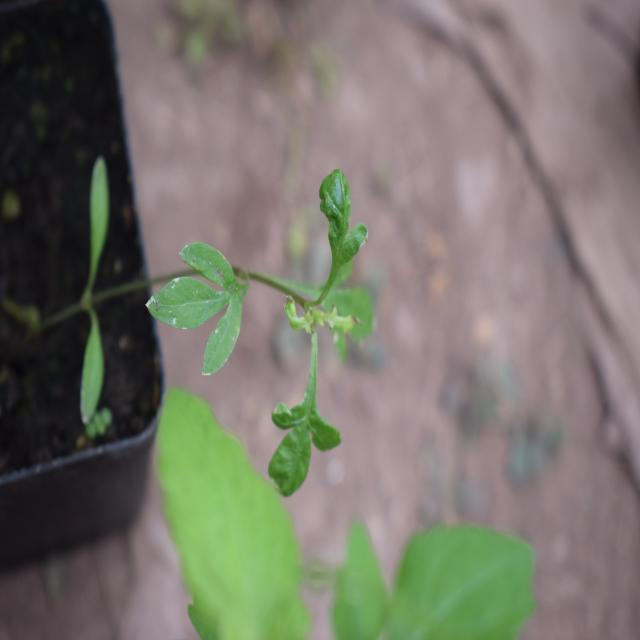Bidens pilosa: (130, 150, 414, 508)
